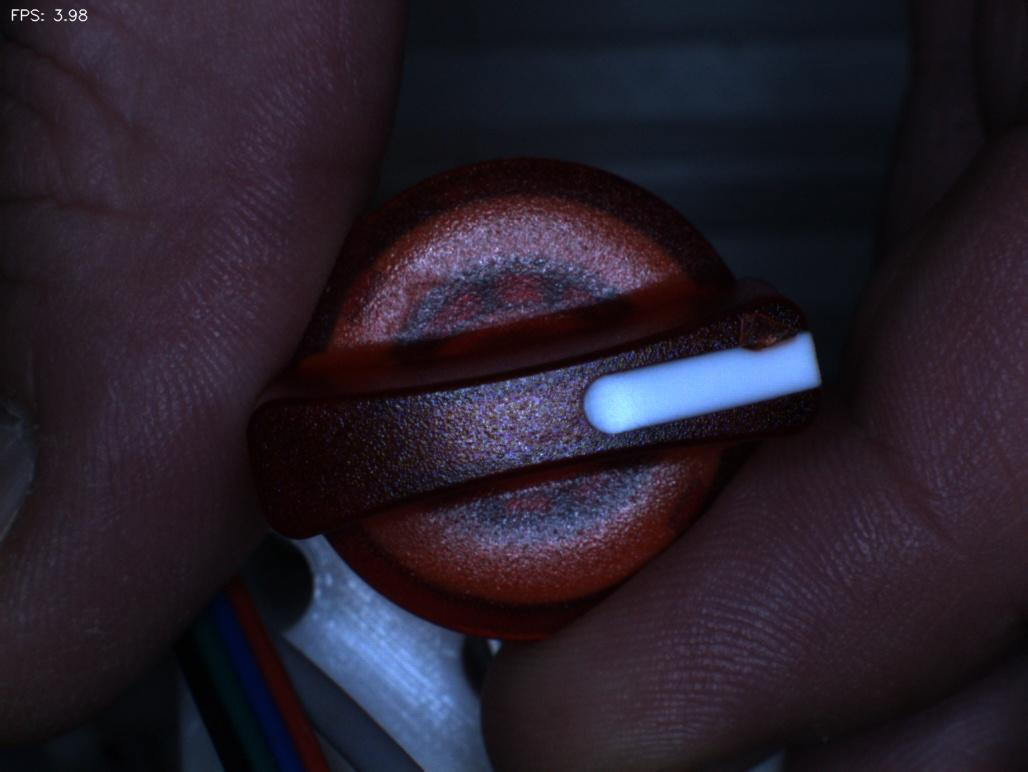Choc: (712, 271, 812, 367)
